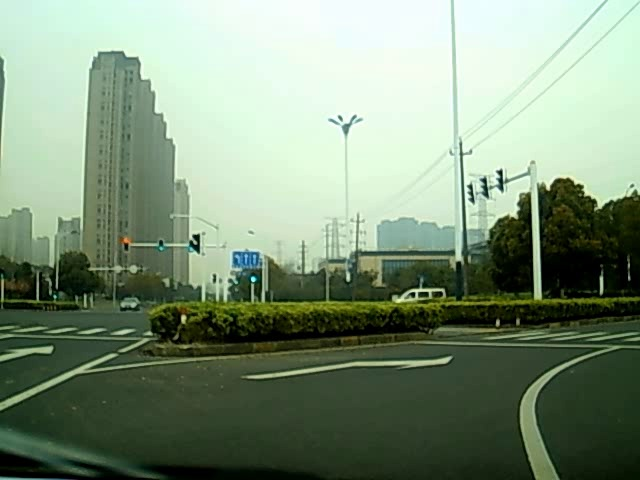Traffic_Light_go: (248, 273, 259, 284), (159, 240, 164, 252)
Traffic_Light_stop: (121, 237, 130, 253)
